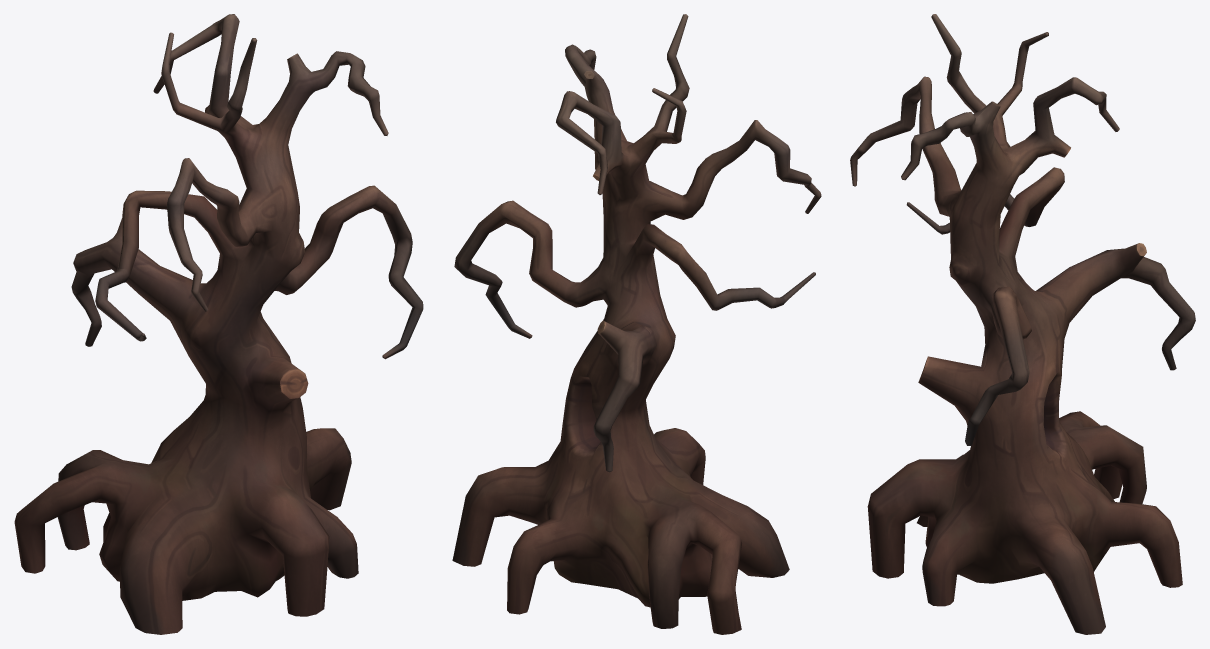
The model's file is tree.fbx.
3 views of the same model, side by side, from view 1: azimuth 30°, elevation 25°; view 2: azimuth 150°, elevation 25°; view 3: azimuth 270°, elevation 25° (orthographic). The views are drawn at different scales.
Parts seen in each view (by area): view 1: tree; view 2: tree; view 3: tree.
Boxes of the visible parts, left/top/right/bottom form: tree: left=14, top=14, right=423, bottom=634; tree: left=452, top=14, right=821, bottom=634; tree: left=850, top=14, right=1195, bottom=634.
Bounding box in the file's own units: 421 × 660 × 376.
